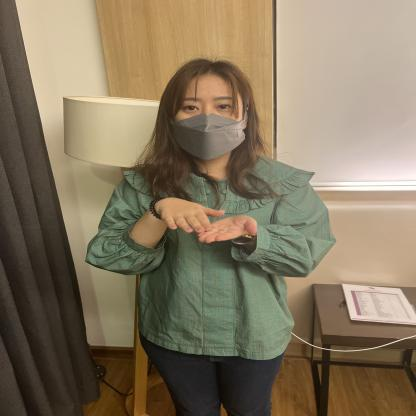Love: (53, 158, 334, 288)
